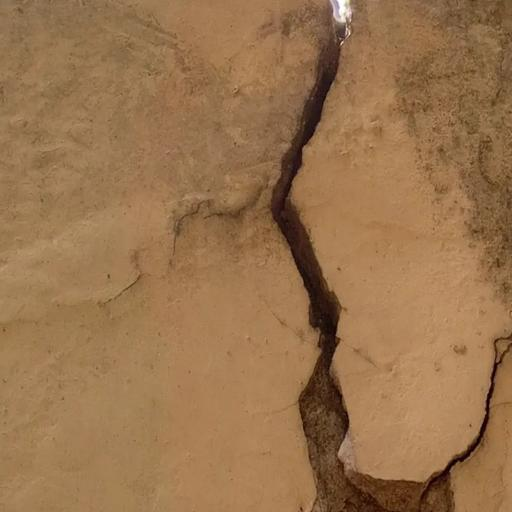major_crack: (266, 0, 497, 512)
